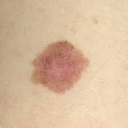Melanoma: (34, 41, 85, 90)
